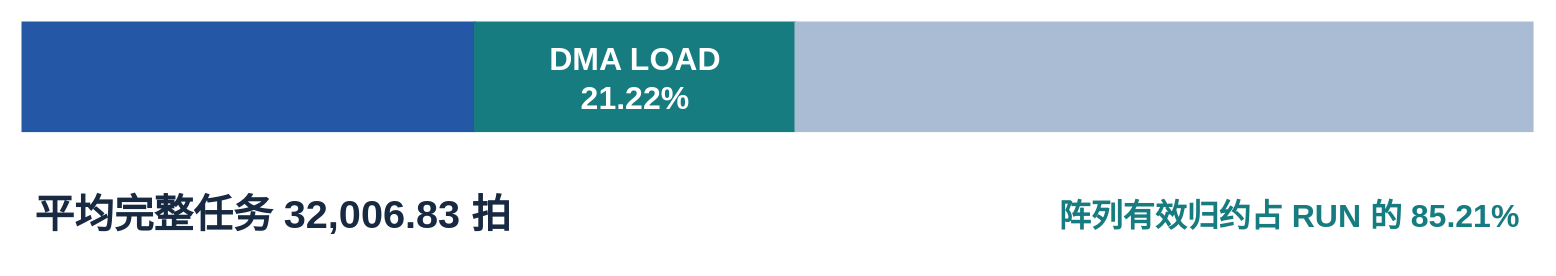
Image size: 1556x276. Some labels were removed from this diagram. The shapes that lost their labels are listed below. From the top down, each one's centre as x and y in pixels, then its label:
At point (248, 76): "Host 与启动 29.96%".
At point (1163, 76): "DMA RUN 48.81%".
